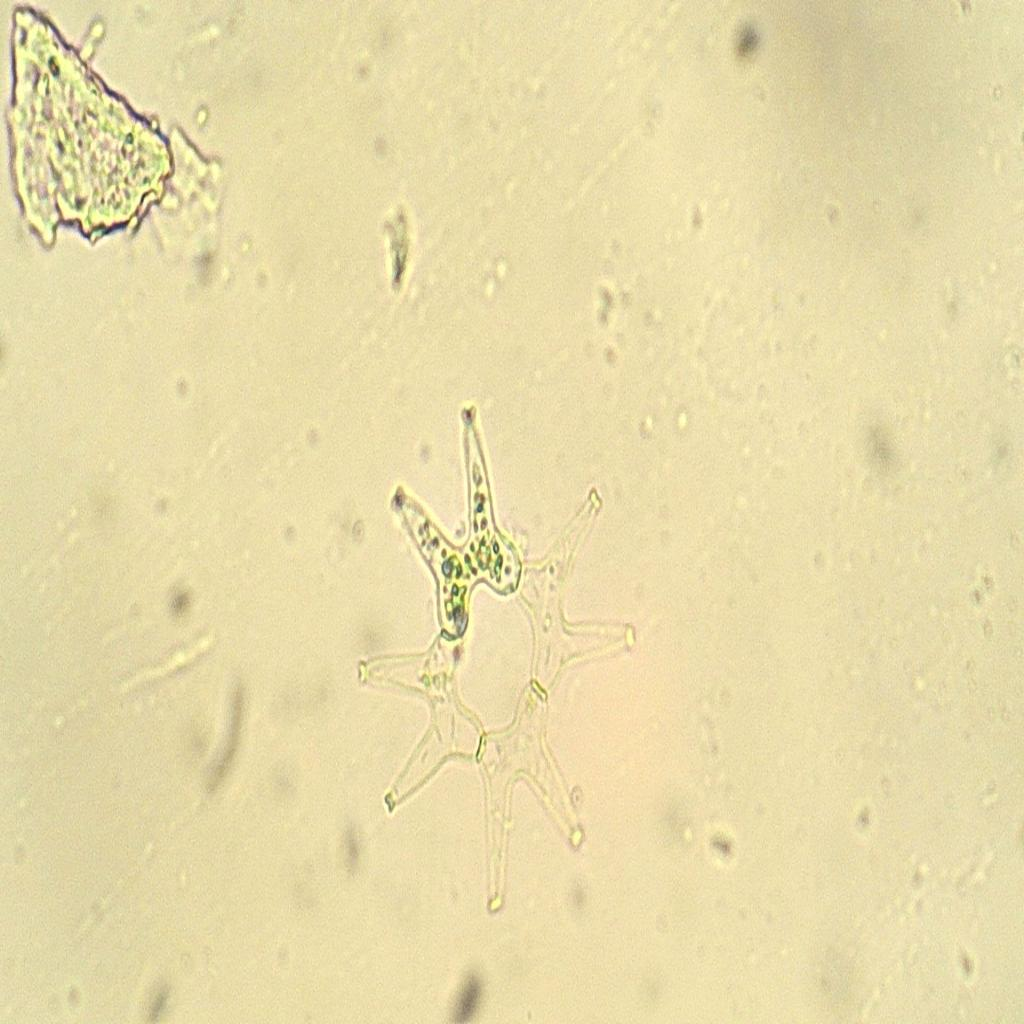Pediastrum_75TH: (347, 392, 646, 923)
